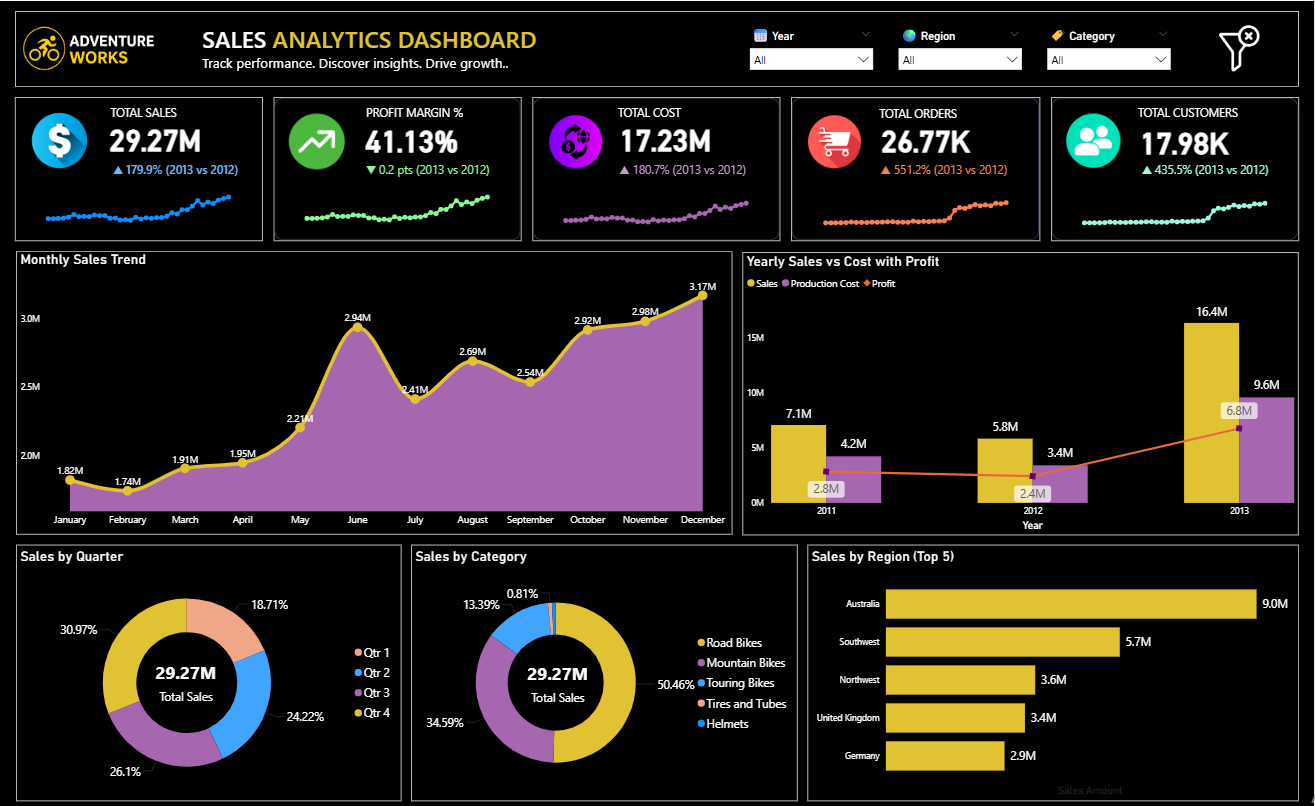

What the dashboard file says about the page in this screenshot:
{"tool":"powerbi","page":{"name":"Dashboard","canvas":[1820,1120],"ordinal":13},"visuals":[{"type":"shape","box":[20.8,13.9,1778.4,105],"z":0},{"type":"shape","box":[1096,133.2,344.4,198.9],"z":1000,"group":"g9"},{"type":"shape","box":[737.7,133.3,343.3,199.1],"z":1000,"group":"g10"},{"type":"shape","box":[1456.3,133.3,342.9,199.1],"z":1000,"group":"g11"},{"type":"shape","box":[20.8,134,343,199.1],"z":1000,"group":"g8"},{"type":"stackedAreaChart","title":"Monthly Sales Trend","fields":{"Category":["Sales.MonthFullName"],"Y":["Sum(Sales.Sales Amount)"]},"box":[22.5,347,992.2,393.1],"z":1000},{"type":"shape","box":[379.2,133.3,343,198.9],"z":2000,"group":"g7"},{"type":"lineClusteredColumnComboChart","title":"Yearly Sales vs Cost with Profit","fields":{"Category":["Sales.Year"],"Y":["Sum(Sales.Sales Amount)","Sum(Sales.Production Cost)"],"Y2":["Sum(Sales.Profit)"]},"box":[1028.2,347.3,770.7,392.2],"z":3000},{"type":"image","box":[22.5,13.9,199.1,105.6],"z":4000},{"type":"textbox","box":[275.9,26.3,643.7,78.8],"z":5000},{"type":"donutChart","title":"Sales by Quarter","fields":{"Category":["DimDate.FullDateAlternateKey.Variation.Date Hierarchy.Quarter"],"Y":["Sum(Sales.Sales Amount)"]},"box":[22.5,754,533.3,355],"z":5000,"group":"g6"},{"type":"barChart","title":"Sales by Region (Top 5)","fields":{"Category":["DimSalesTerritory.SalesTerritoryRegion"],"Y":["Sum(Sales.Sales Amount)"]},"box":[1118.6,753.3,680.5,355],"z":6000},{"type":"card","title":" Total Sales","fields":{"Values":["Sum(Sales.Sales Amount)"]},"box":[194,896.7,127.9,95.1],"z":6000,"group":"g6"},{"type":"slicer","fields":{"Values":["DimSalesTerritory.SalesTerritoryRegion"]},"box":[1234,31.2,190.5,72.7],"z":7000},{"type":"slicer","fields":{"Values":["DimProdCategory.EnglishProductCategoryName"]},"box":[1440,31.2,190.5,72.7],"z":8000},{"type":"donutChart","title":"Sales by Category","fields":{"Category":["DimProdSubCategory.EnglishProductSubcategoryName"],"Y":["Sum(Sales.Sales Amount)"]},"box":[570,753.3,535.1,355],"z":8000,"group":"g5"},{"type":"actionButton","box":[1652,31.2,129.9,69.3],"z":9000},{"type":"card","title":" Total Sales","fields":{"Values":["Sum(Sales.Sales Amount)"]},"box":[706,888.6,132.8,111.5],"z":9000,"group":"g5"},{"type":"slicer","fields":{"Values":["Sales.Year"]},"box":[1028.6,31.2,190.5,72.7],"z":10000},{"type":"group","id":"g1","title":"Sales KPI","box":[20.8,134,343,199.1],"z":11000},{"type":"group","id":"g2","title":"Cost KPI","box":[737.7,133.3,343.3,199.1],"z":12000},{"type":"group","id":"g3","title":"Customer KPI","box":[1456.3,133.3,342.9,199.1],"z":13000},{"type":"group","id":"g4","title":"Orders KPI","box":[1096,133.2,344.4,198.9],"z":14000},{"type":"group","id":"g5","title":"Group 2","box":[570,753.3,535.1,355],"z":15000},{"type":"group","id":"g6","title":"Group 1","box":[22.5,754,533.3,355],"z":16000},{"type":"image","box":[399.6,155.2,77.9,77.9],"z":17000,"group":"g7"},{"type":"textbox","box":[502,139.4,180,33.2],"z":18000,"group":"g7"},{"type":"card","fields":{"Values":["Sales.Profit Margin %"]},"box":[492.2,164.4,156.4,53.1],"z":19000,"group":"g7"},{"type":"card","fields":{"Values":["DimDate.Margin Change (pts)"]},"box":[480,218,226,36],"z":20000,"group":"g7"},{"type":"lineChart","fields":{"Y":["DimDate.Total Profit"],"Category":["Sales.Month Start"]},"box":[411,255,280,62.3],"z":21000,"group":"g7"},{"type":"group","id":"g7","title":"Group 4","box":[379.2,133.3,343,198.9],"z":21001},{"type":"group","id":"g8","title":"Group 3","box":[20.8,134,343,199.1],"z":21001,"group":"g1"},{"type":"group","id":"g9","title":"Group 6","box":[1096,133.2,344.4,198.9],"z":21002,"group":"g4"},{"type":"group","id":"g10","title":"Group 5","box":[737.7,133.3,343.3,199.1],"z":21002,"group":"g2"},{"type":"group","id":"g11","title":"Group 7","box":[1456.3,133.3,342.9,199.1],"z":21002,"group":"g3"},{"type":"image","box":[43,155,78,78],"z":24000,"group":"g8"},{"type":"image","box":[758.7,155,78,78],"z":24000,"group":"g10"},{"type":"image","box":[1117,155,78,78],"z":24000,"group":"g9"},{"type":"image","box":[1477,155,75,75],"z":24000,"group":"g11"},{"type":"textbox","box":[1557.7,138,240.2,36.4],"z":25000,"group":"g11"},{"type":"textbox","box":[838,138.4,171.7,33.2],"z":25000,"group":"g10"},{"type":"textbox","box":[135.7,139.1,171.5,33.2],"z":25000,"group":"g8"},{"type":"textbox","box":[1200,140,172.2,33.2],"z":25000,"group":"g9"},{"type":"card","fields":{"Values":["DimDate.Total Cost"]},"box":[842.7,163.4,156.4,53.1],"z":26000,"group":"g10"},{"type":"card","fields":{"Values":["DimDate.Total Sales"]},"box":[137.4,164.1,156.2,53.1],"z":26000,"group":"g8"},{"type":"card","fields":{"Values":["DimDate.Total Orders"]},"box":[1204,165,156.9,53.1],"z":26000,"group":"g9"},{"type":"card","fields":{"Values":["DimDate.Total Customers"]},"box":[1572,165.8,136.4,53.1],"z":26000,"group":"g11"},{"type":"card","fields":{"Values":["DimDate.Orders Growth Indicator"]},"box":[1194,218,226,36],"z":27000,"group":"g9"},{"type":"card","fields":{"Values":["DimDate.Customers Growth Indicator"]},"box":[1556,218,226,36],"z":27000,"group":"g11"},{"type":"card","fields":{"Values":["DimDate.Cost Growth Indicator"]},"box":[832.7,218.4,226,36],"z":27000,"group":"g10"},{"type":"card","title":"Vs Previous Year","fields":{"Values":["DimDate.Growth Indicator"]},"box":[130.3,218.8,226.8,36.4],"z":27000,"group":"g8"},{"type":"lineChart","fields":{"Y":["DimDate.Total Sales"],"Category":["Sales.Month Start"]},"box":[52,255,280,63.1],"z":29000,"group":"g8"},{"type":"lineChart","fields":{"Y":["DimDate.Total Cost"],"Category":["Sales.Month Start"]},"box":[769,255,280,63.9],"z":29000,"group":"g10"},{"type":"lineChart","fields":{"Y":["DimDate.Total Orders"],"Category":["Sales.Month Start"]},"box":[1129,255,280,62.3],"z":29000,"group":"g9"},{"type":"lineChart","fields":{"Y":["DimDate.Total Customers"],"Category":["Sales.Month Start"]},"box":[1488,255,280,62.3],"z":29000,"group":"g11"}]}

Visuals, with their boxes in screenshot pixels (x1, y1, x2, y2), scaled from the page's 1820x1120 canvas onto the 1315x806 screenshot:
shape: [left=15, top=10, right=1300, bottom=86]
shape: [left=792, top=96, right=1041, bottom=239]
shape: [left=533, top=96, right=781, bottom=239]
shape: [left=1052, top=96, right=1300, bottom=239]
shape: [left=15, top=96, right=263, bottom=240]
"Monthly Sales Trend" stackedAreaChart: [left=16, top=250, right=733, bottom=533]
shape: [left=274, top=96, right=522, bottom=239]
"Yearly Sales vs Cost with Profit" lineClusteredColumnComboChart: [left=743, top=250, right=1300, bottom=532]
image: [left=16, top=10, right=160, bottom=86]
textbox: [left=199, top=19, right=664, bottom=76]
"Sales by Quarter" donutChart: [left=16, top=543, right=402, bottom=798]
"Sales by Region (Top 5)" barChart: [left=808, top=542, right=1300, bottom=798]
" Total Sales" card: [left=140, top=645, right=233, bottom=714]
slicer - DimSalesTerritory.SalesTerritoryRegion: [left=892, top=22, right=1029, bottom=75]
slicer - DimProdCategory.EnglishProductCategoryName: [left=1040, top=22, right=1178, bottom=75]
"Sales by Category" donutChart: [left=412, top=542, right=798, bottom=798]
actionButton: [left=1194, top=22, right=1287, bottom=72]
" Total Sales" card: [left=510, top=639, right=606, bottom=720]
slicer - Sales.Year: [left=743, top=22, right=881, bottom=75]
"Sales KPI" group: [left=15, top=96, right=263, bottom=240]
"Cost KPI" group: [left=533, top=96, right=781, bottom=239]
"Customer KPI" group: [left=1052, top=96, right=1300, bottom=239]
"Orders KPI" group: [left=792, top=96, right=1041, bottom=239]
"Group 2" group: [left=412, top=542, right=798, bottom=798]
"Group 1" group: [left=16, top=543, right=402, bottom=798]
image: [left=289, top=112, right=345, bottom=168]
textbox: [left=363, top=100, right=493, bottom=124]
card - Sales.Profit Margin %: [left=356, top=118, right=469, bottom=157]
card - DimDate.Margin Change (pts): [left=347, top=157, right=510, bottom=183]
lineChart - DimDate.Total Profit x Sales.Month Start: [left=297, top=184, right=499, bottom=228]
"Group 4" group: [left=274, top=96, right=522, bottom=239]
"Group 3" group: [left=15, top=96, right=263, bottom=240]
"Group 6" group: [left=792, top=96, right=1041, bottom=239]
"Group 5" group: [left=533, top=96, right=781, bottom=239]
"Group 7" group: [left=1052, top=96, right=1300, bottom=239]
image: [left=31, top=112, right=87, bottom=168]
image: [left=548, top=112, right=605, bottom=168]
image: [left=807, top=112, right=863, bottom=168]
image: [left=1067, top=112, right=1121, bottom=166]
textbox: [left=1125, top=99, right=1299, bottom=126]
textbox: [left=605, top=100, right=730, bottom=123]
textbox: [left=98, top=100, right=222, bottom=124]
textbox: [left=867, top=101, right=991, bottom=125]
card - DimDate.Total Cost: [left=609, top=118, right=722, bottom=156]
card - DimDate.Total Sales: [left=99, top=118, right=212, bottom=156]
card - DimDate.Total Orders: [left=870, top=119, right=983, bottom=157]
card - DimDate.Total Customers: [left=1136, top=119, right=1234, bottom=158]
card - DimDate.Orders Growth Indicator: [left=863, top=157, right=1026, bottom=183]
card - DimDate.Customers Growth Indicator: [left=1124, top=157, right=1288, bottom=183]
card - DimDate.Cost Growth Indicator: [left=602, top=157, right=765, bottom=183]
"Vs Previous Year" card: [left=94, top=157, right=258, bottom=184]
lineChart - DimDate.Total Sales x Sales.Month Start: [left=38, top=184, right=240, bottom=229]
lineChart - DimDate.Total Cost x Sales.Month Start: [left=556, top=184, right=758, bottom=229]
lineChart - DimDate.Total Orders x Sales.Month Start: [left=816, top=184, right=1018, bottom=228]
lineChart - DimDate.Total Customers x Sales.Month Start: [left=1075, top=184, right=1277, bottom=228]
